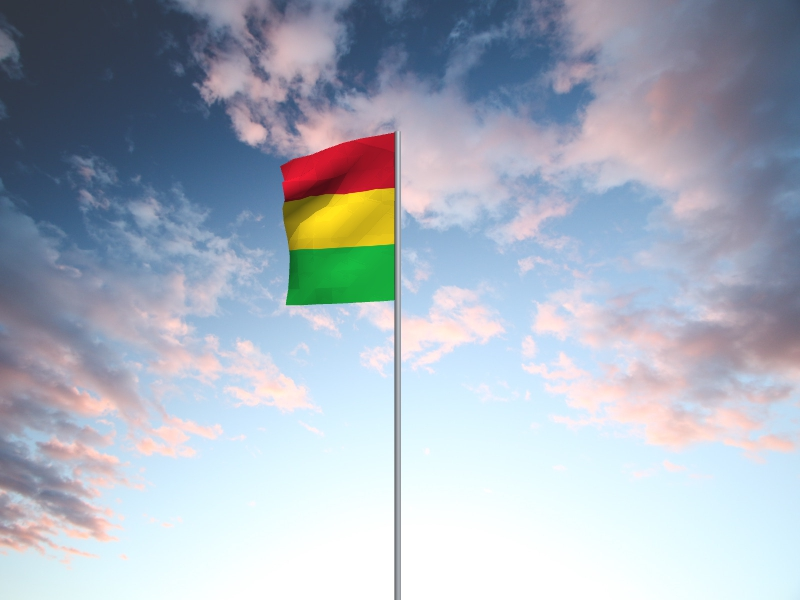ml: (280, 133, 395, 307)
